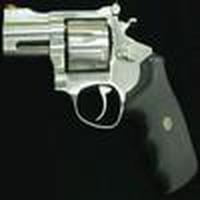gun: (2, 7, 198, 192)
